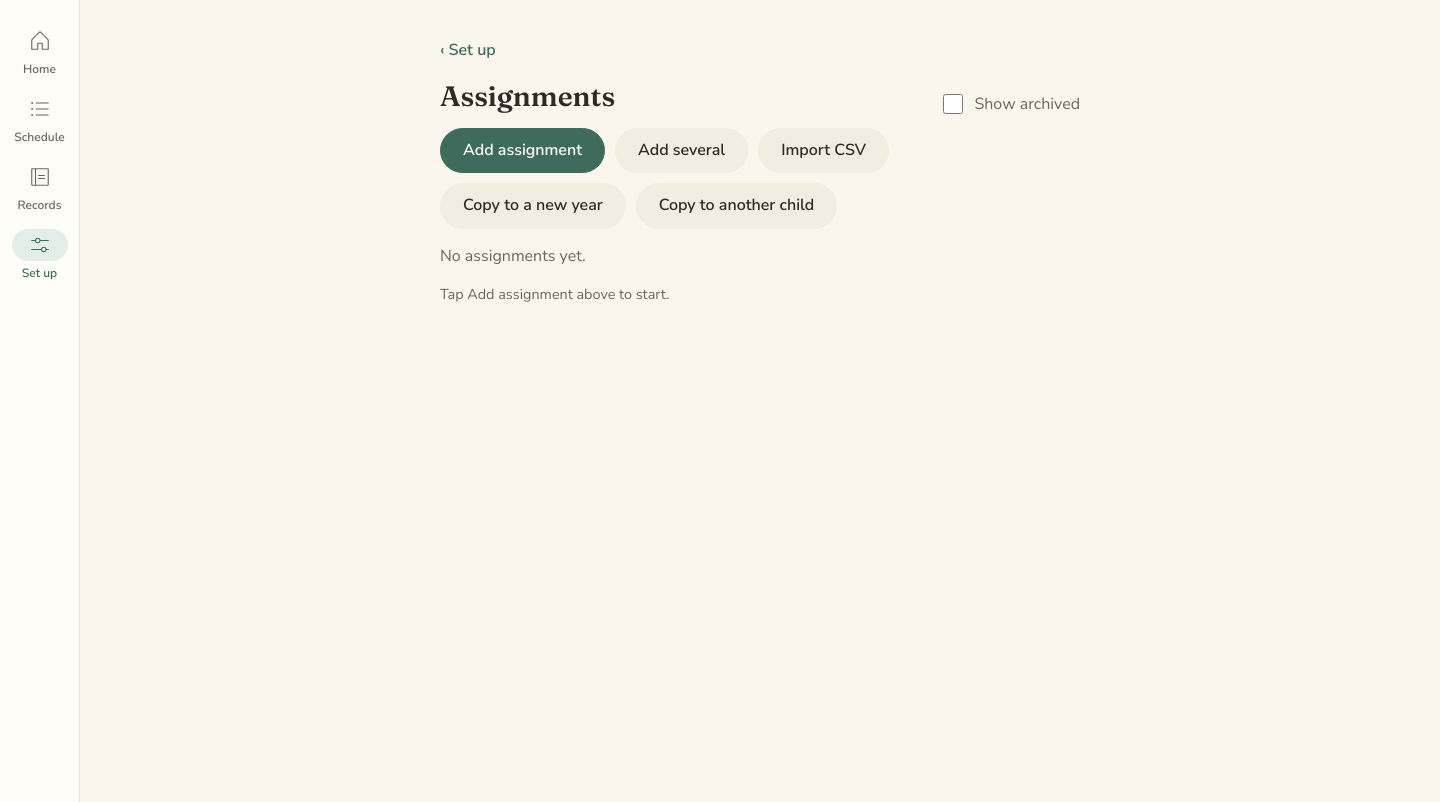
where the mark shows › the assignment form's subject select shows the chosen subject's badge
This screenshot has width=1440, height=802.
Click the button "Add assignment" at {"x": 522, "y": 151}, box x1=440 y1=128 x2=605 y2=173
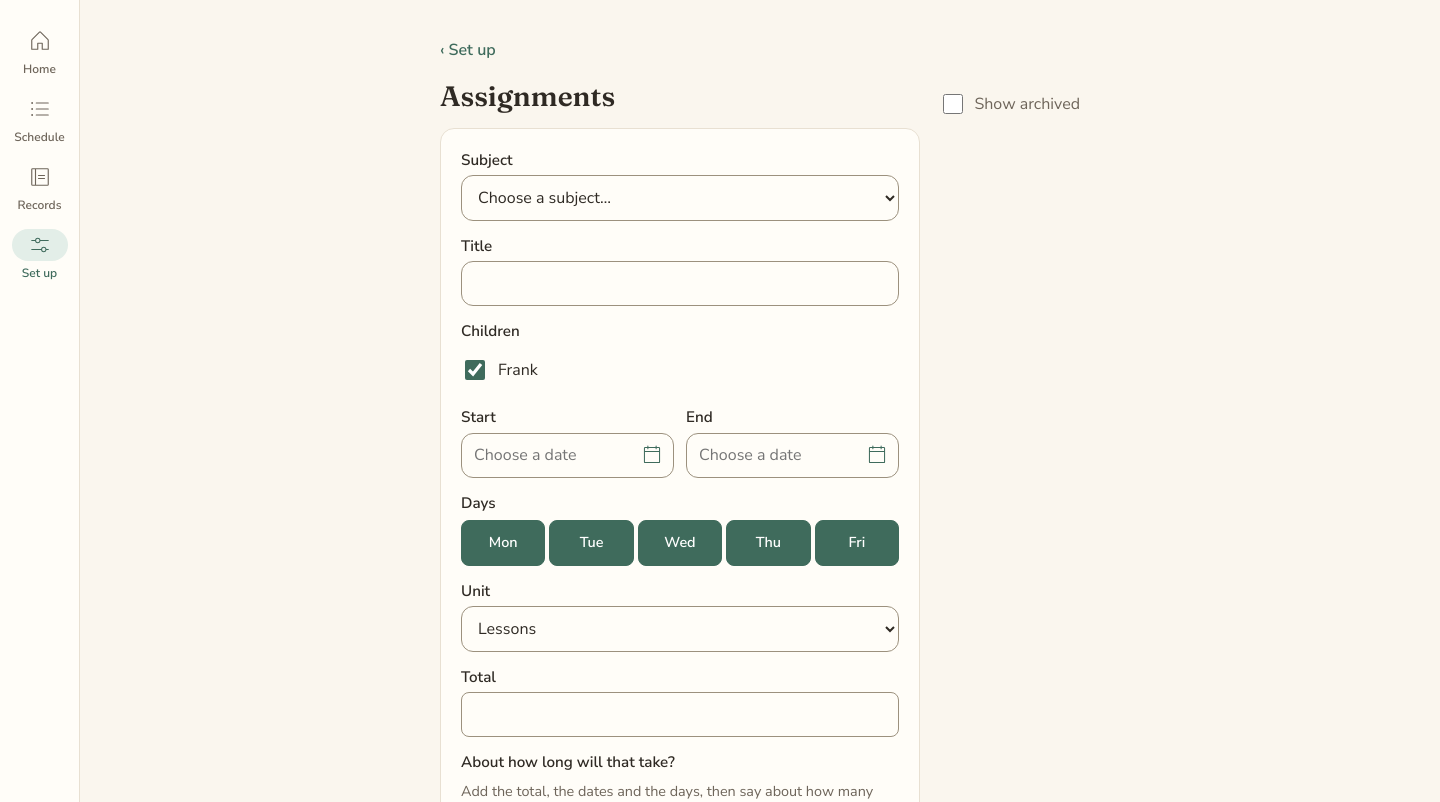
Select "Math" in the dropdown labelled "Subject" at {"x": 680, "y": 198}, box x1=461 y1=175 x2=899 y2=221
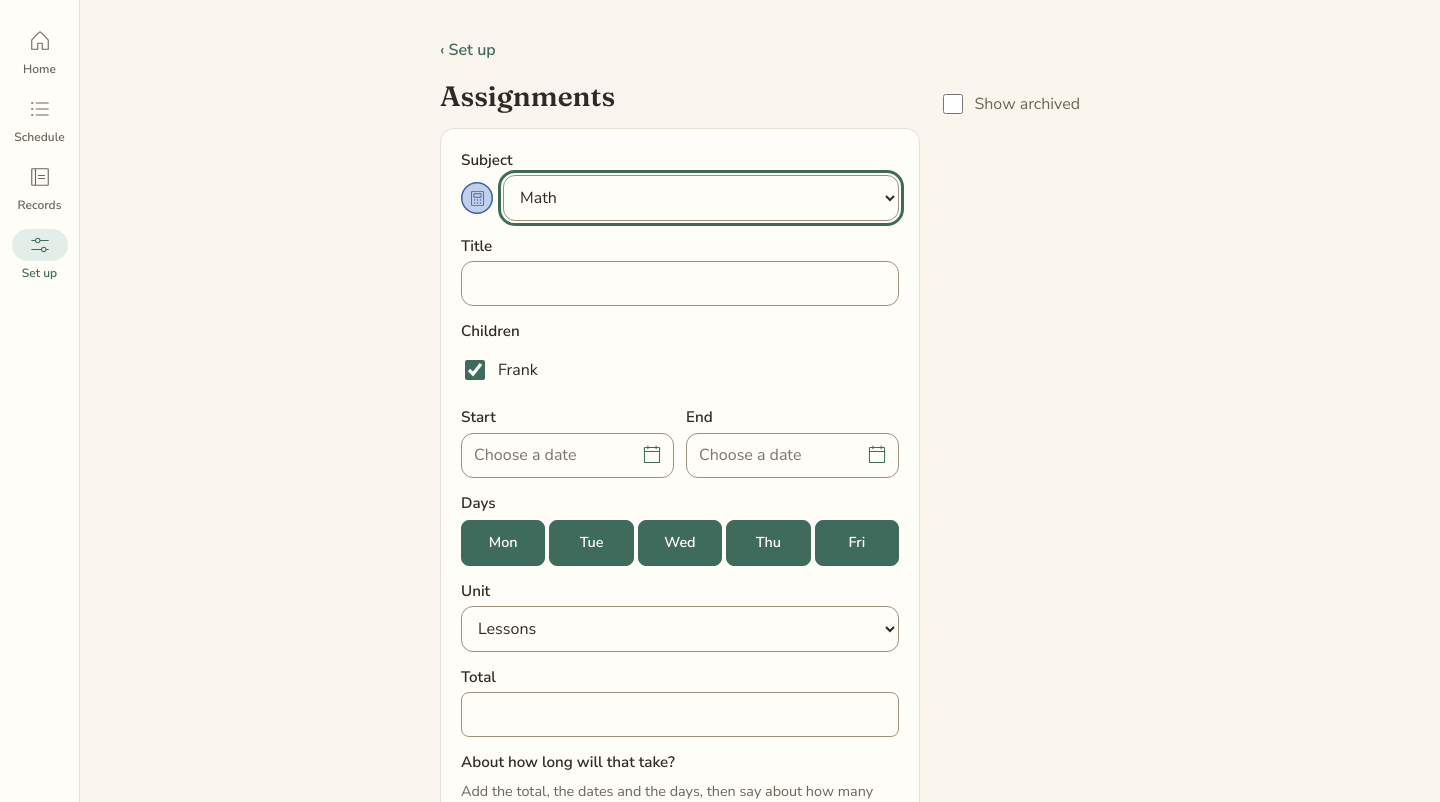
Result: the icon below "Subject" is shown at x1=468 y1=189 x2=486 y2=208
Select "Chess club" in the dropdown labelled "Subject" at {"x": 701, "y": 198}, box x1=503 y1=175 x2=899 y2=221
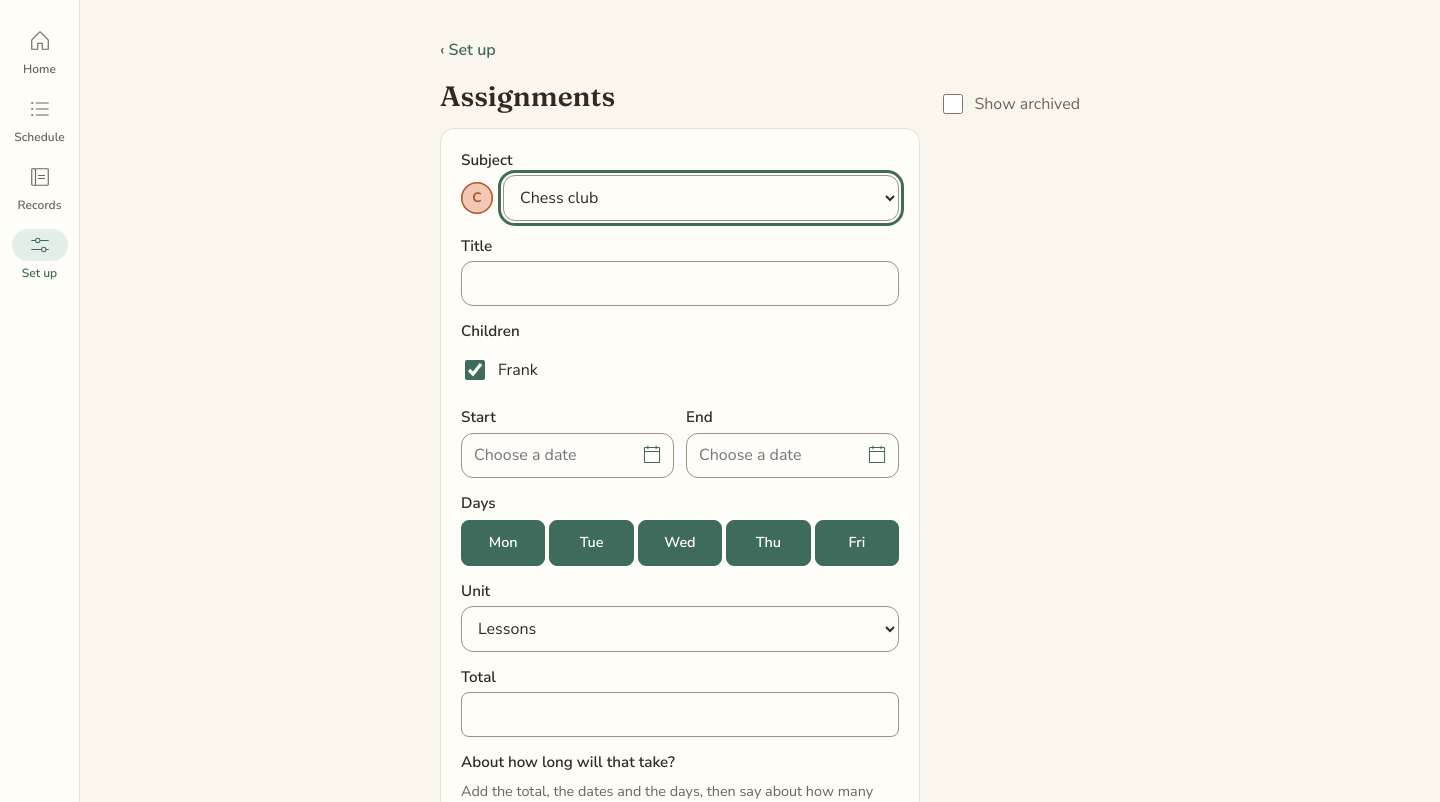
Result: the icon with class "subject-letter" is shown at x1=468 y1=189 x2=486 y2=208
